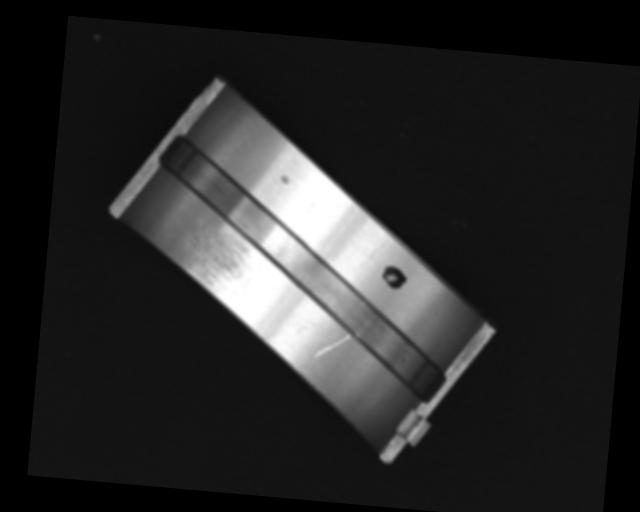blot: (379, 263, 408, 292)
bruise: (279, 174, 290, 186)
gap: (139, 137, 465, 404)
nick: (312, 329, 350, 359), (357, 239, 385, 271)
scratch: (175, 226, 263, 310)
